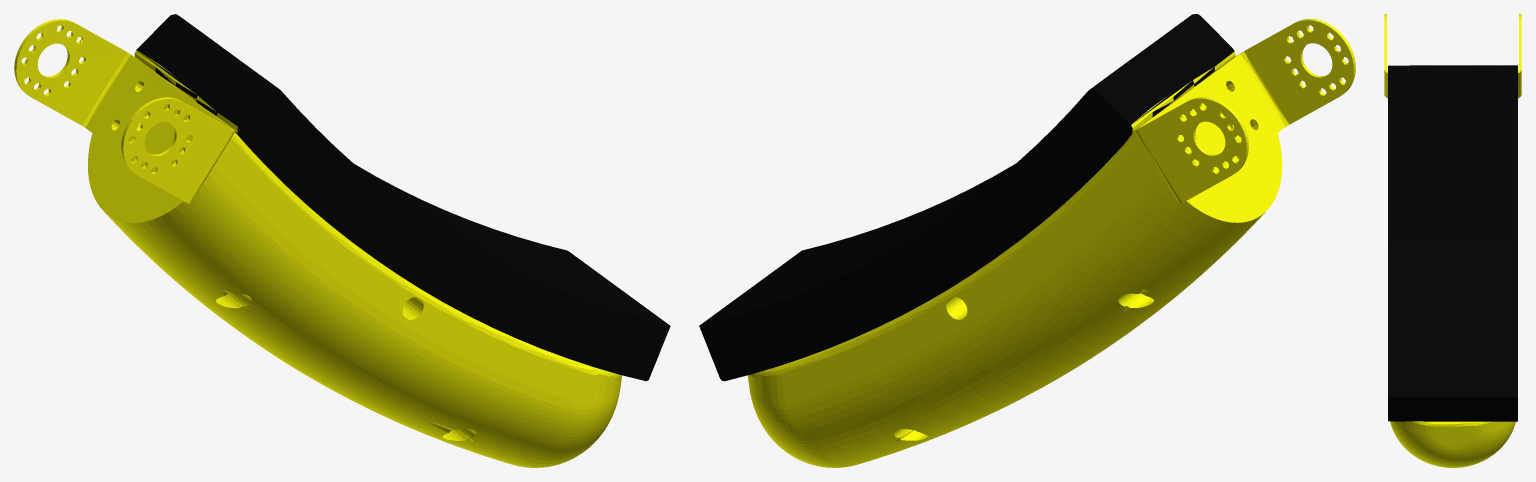
The model's file is hand_right_mini.dae.
3 views of the same model, side by side, from view 1: azimuth 30°, elevation 25°; view 2: azimuth 150°, elevation 25°; view 3: azimuth 270°, elevation 25° (orthographic). The views are drawn at different scales.
Visible parts, largest first — view 1: node; view 2: node; view 3: node.
Boxes of the visible parts, left/top/right/bottom form: node: left=14, top=14, right=670, bottom=467; node: left=699, top=14, right=1355, bottom=467; node: left=1384, top=14, right=1521, bottom=467.
Bounding box in the file's own units: 15.46 × 13.47 × 5.3.
1 material, 1 textured.
